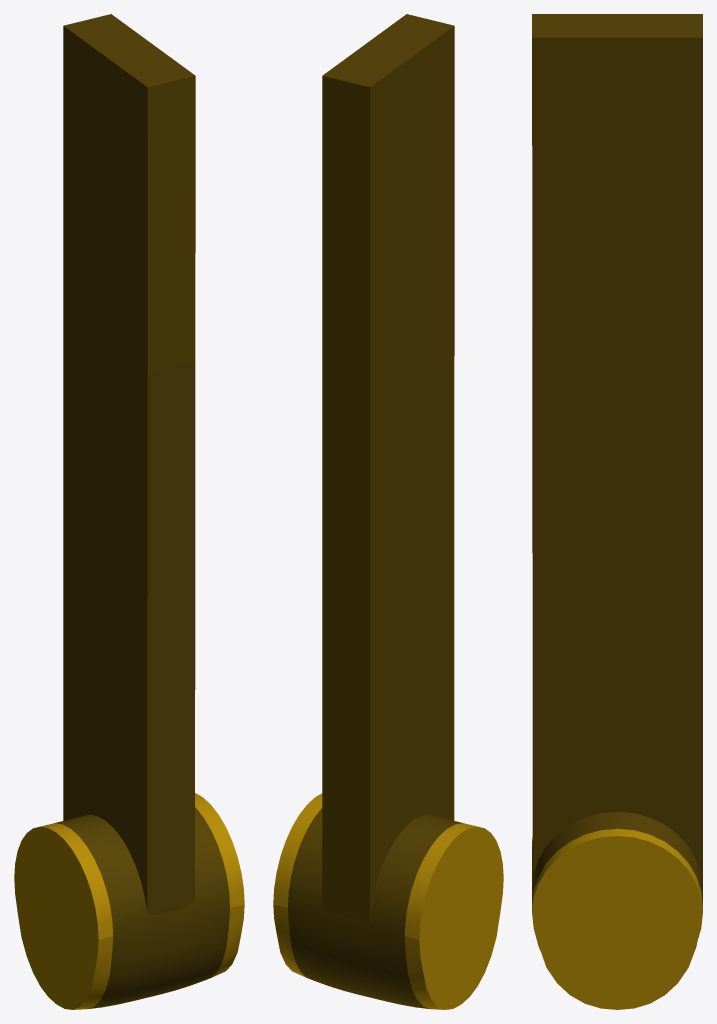
File: Clockarm.fbx
The picture shows the model from 3 angles, left to right: view 1: azimuth 30°, elevation 25°; view 2: azimuth 150°, elevation 25°; view 3: azimuth 270°, elevation 25°; orthographic projection.
Visible parts, largest first — view 1: Cube, Cube.001; view 2: Cube, Cube.001; view 3: Cube, Cube.001.
Boxes of the visible parts, x1,y1,x2,y2 form: Cube: [55, 14, 229, 1008]; Cube.001: [14, 793, 244, 1009]; Cube: [288, 14, 462, 1008]; Cube.001: [273, 793, 503, 1009]; Cube: [532, 14, 702, 904]; Cube.001: [532, 828, 702, 1009].
Size of the model in its own units: 200 by 1232 by 200.
